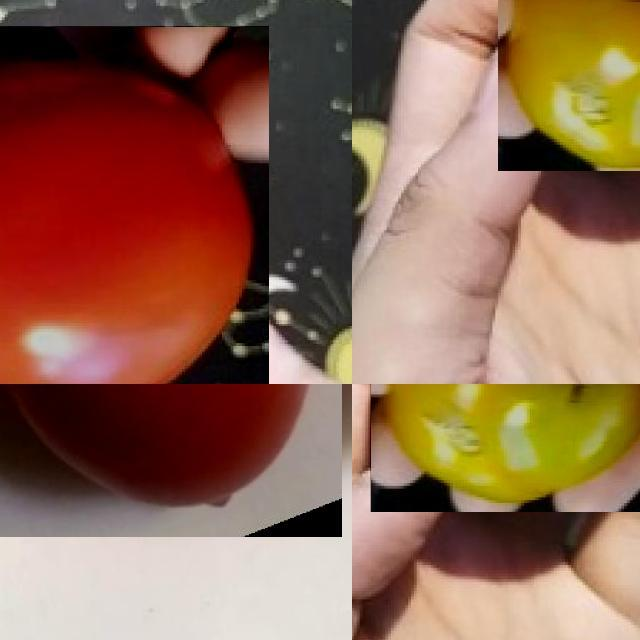Fresh Tomato: (0, 26, 268, 384), (0, 384, 342, 537)
Rotten Tomato: (370, 384, 640, 511), (498, 0, 640, 170)
